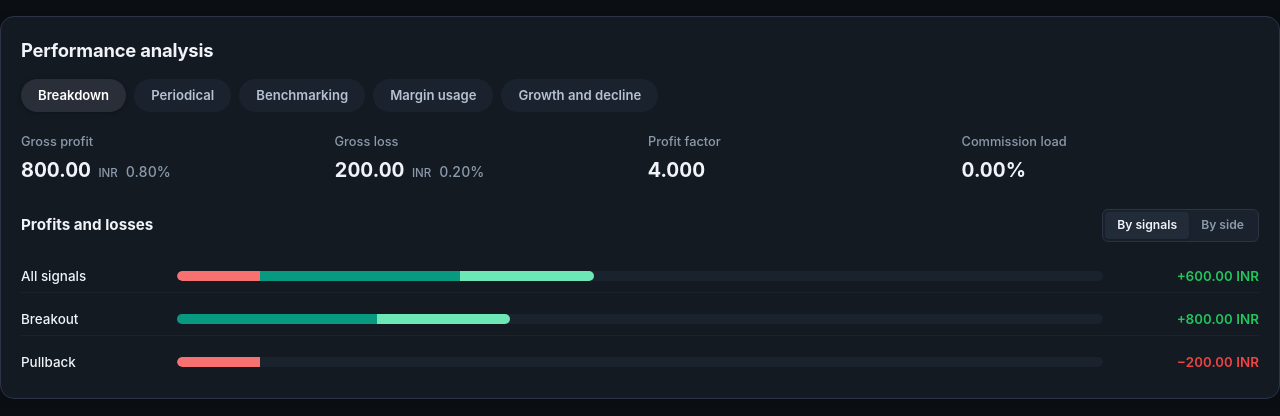
Scenario: PerformanceAnalysis Component › renders Breakdown tab metrics and supports By signals vs By side
This screenshot has width=1280, height=416.
expect the element with test id "performance-breakdown-tab" is shown: met, box [21, 132, 1259, 378]
expect the text "Gross profit" is shown: met, box [21, 134, 93, 149]
Toggle to By side
Click the button "By side".
click(1223, 226)  # box [1189, 212, 1256, 239]
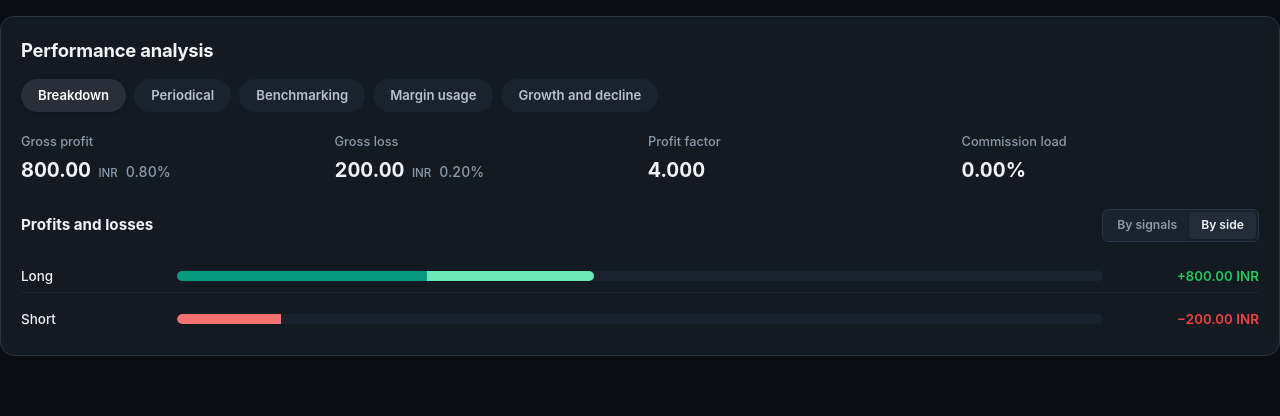
expect the text "Long" is shown: met, box [21, 268, 53, 284]
expect the text "Short" is shown: met, box [21, 311, 56, 327]
Toggle back to By signals
Click the button "By signals".
click(1147, 226)  # box [1105, 212, 1189, 239]
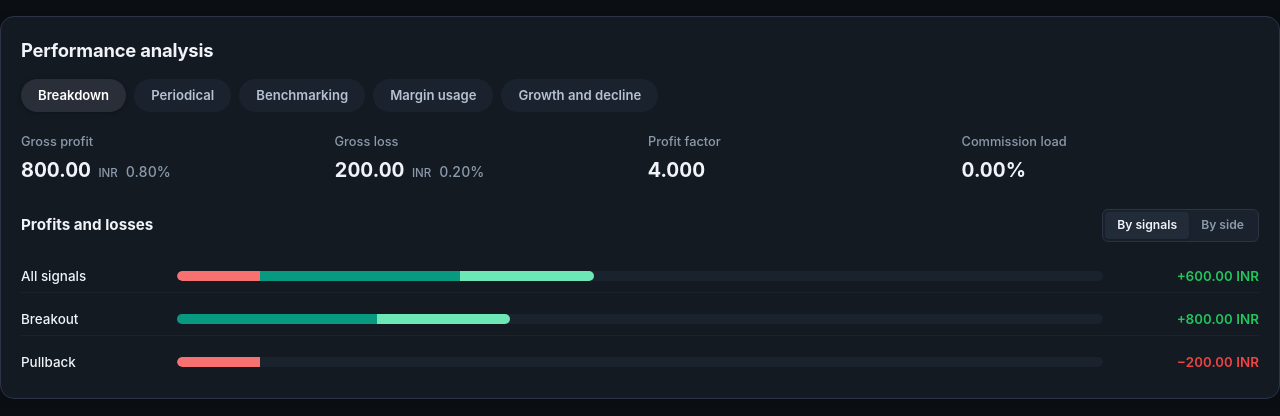
expect the text "All signals" is shown: met, box [21, 268, 86, 284]
